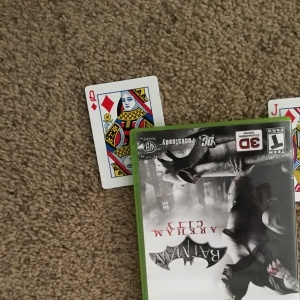card: (84, 75, 166, 191)
